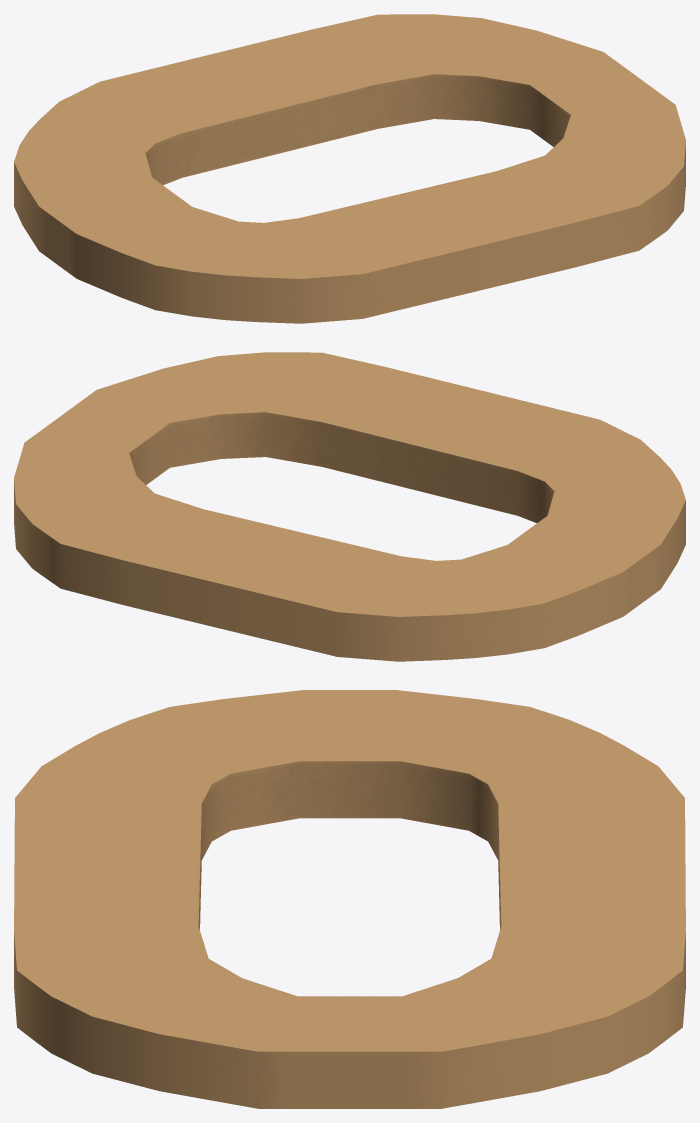
File: 0_Bronze.glb
3 renders of one model, top to bottom at view 1: azimuth 30°, elevation 25°; view 2: azimuth 150°, elevation 25°; view 3: azimuth 270°, elevation 25°, orthographic. The views are drawn at different scales.
Parts seen in each view (by area): view 1: 0*; view 2: 0*; view 3: 0*.
Boxes of the visible parts, x1,y1,x2,y2 form: 0*: [14, 14, 685, 323]; 0*: [14, 352, 685, 661]; 0*: [14, 690, 685, 1108].
Bounding box in the file's own units: 0.5381 × 0.0396 × 0.4225.
Materials: 1 (1 with a texture image).
